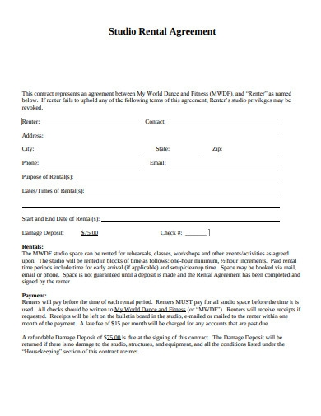textline: (45, 131, 284, 143), (86, 185, 283, 198), (73, 171, 283, 183), (100, 211, 282, 223), (167, 157, 281, 170), (35, 142, 143, 155), (166, 115, 282, 127), (40, 157, 145, 169), (43, 116, 140, 128), (223, 143, 282, 155), (171, 143, 203, 154), (186, 228, 206, 238)
